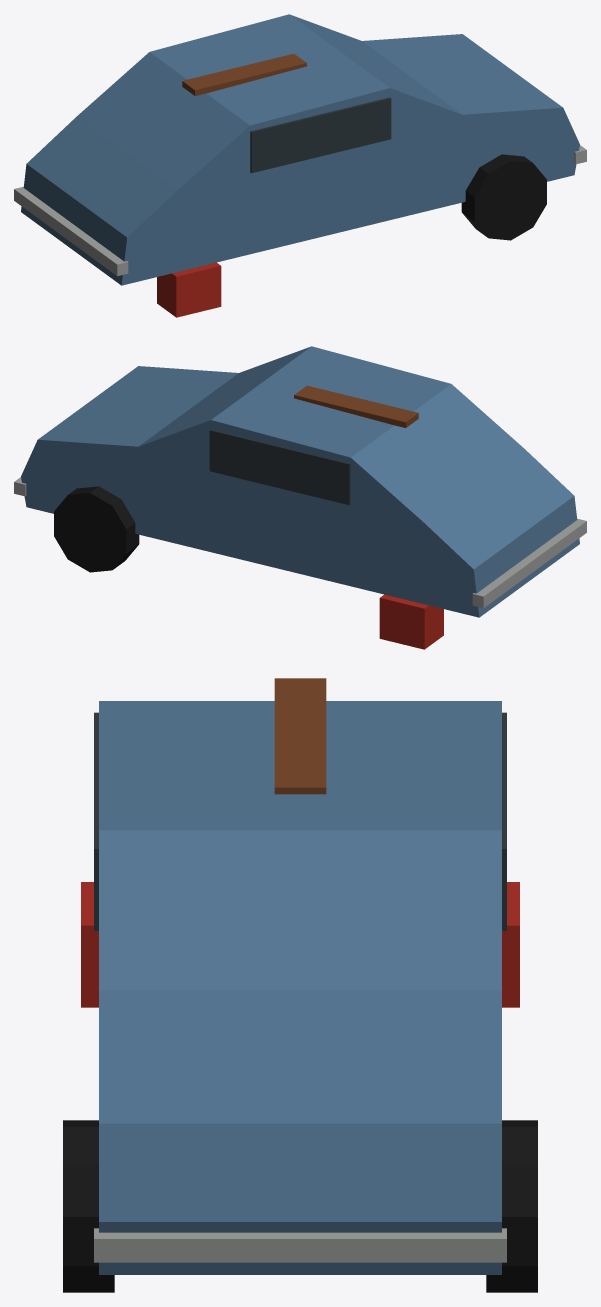
The model's file is carcaca_fusca.glb.
3 views of the same model, one above another, from view 1: azimuth 30°, elevation 25°; view 2: azimuth 150°, elevation 25°; view 3: azimuth 270°, elevation 25° (orthographic). The views are drawn at different scales.
Parts seen in each view (by area): view 1: carcaca_fusca; view 2: carcaca_fusca; view 3: carcaca_fusca.
Part boxes in pixels (left/top/right/bottom): carcaca_fusca: left=14, top=14, right=586, bottom=317; carcaca_fusca: left=14, top=346, right=586, bottom=649; carcaca_fusca: left=63, top=678, right=537, bottom=1292.
Bounding box in the file's own units: 4.2 × 1.5 × 1.84.
